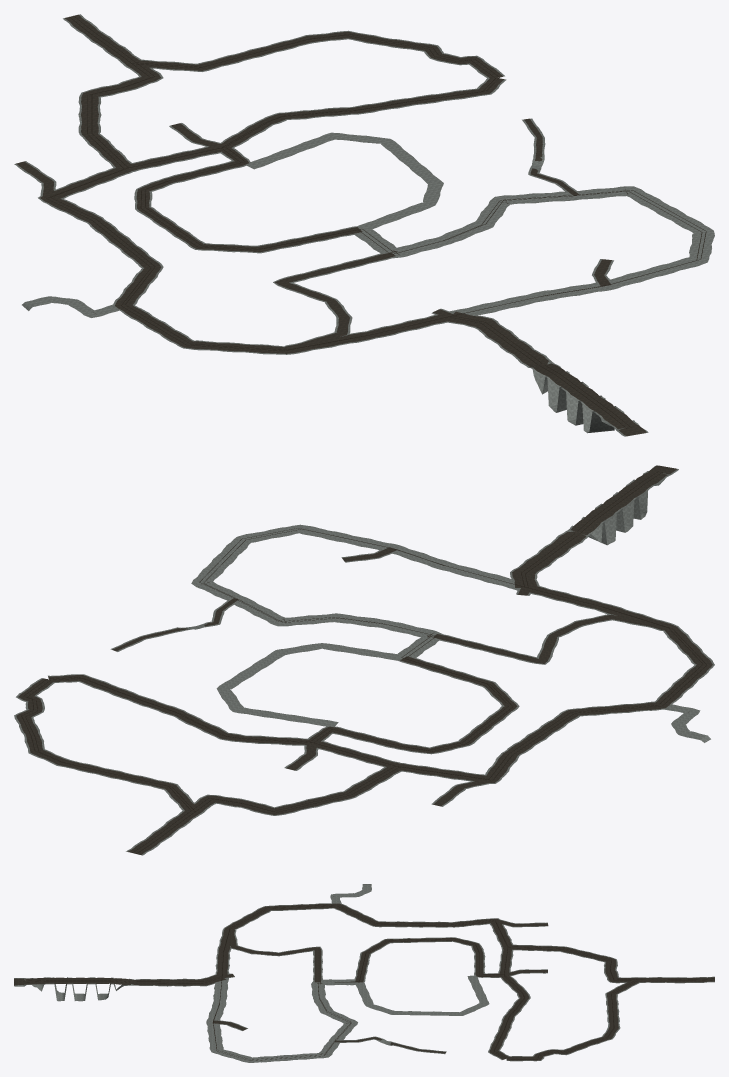
File: roads.glb
3 renders of one model, top to bottom at view 1: azimuth 30°, elevation 25°; view 2: azimuth 150°, elevation 25°; view 3: azimuth 270°, elevation 25°, orthographic. The views are drawn at different scales.
Parts seen in each view (by area): view 1: ENV_R5_Earth, ENV_R5_Slush, ENV_R5_Mud; view 2: ENV_R5_Earth, ENV_R5_Slush, ENV_R5_Mud; view 3: ENV_R5_Earth, ENV_R5_Slush, ENV_R5_Mud.
Part boxes in pixels (<box>): ENV_R5_Earth: <box>16,14,646,436</box>; ENV_R5_Slush: <box>14,14,714,436</box>; ENV_R5_Mud: <box>46,15,706,433</box>; ENV_R5_Earth: <box>16,465,712,854</box>; ENV_R5_Slush: <box>14,465,714,855</box>; ENV_R5_Mud: <box>21,466,706,853</box>; ENV_R5_Earth: <box>14,896,714,1060</box>; ENV_R5_Slush: <box>14,884,714,1062</box>; ENV_R5_Mud: <box>14,905,713,1060</box>.
Bounding box in the file's own units: 329 × 15.68 × 542.
Materials: 3 (3 with a texture image).
